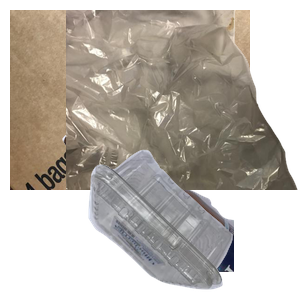cardboard: (10, 10, 250, 190)
glass: (60, 120, 300, 300)
plastic: (86, 147, 300, 300)
trash: (66, 10, 300, 190)
